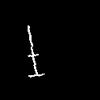double_crochet: (28, 26, 42, 76)
